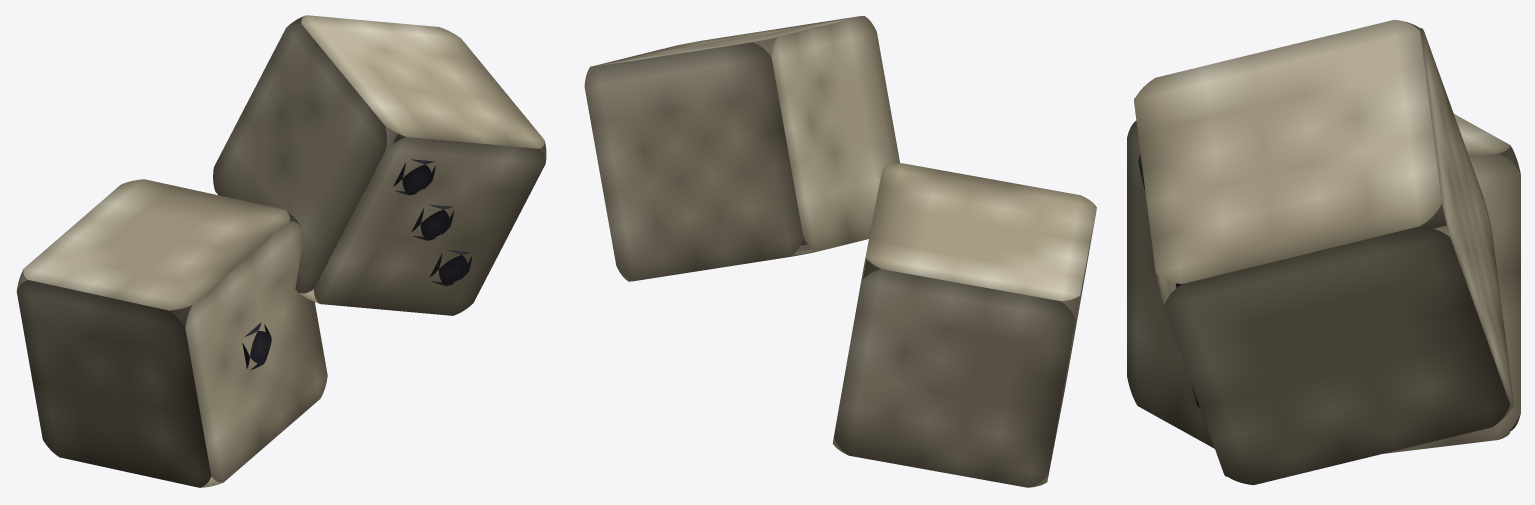
The model's file is loaded_dice.obj.
The picture shows the model from 3 angles, left to right: view 1: azimuth 30°, elevation 25°; view 2: azimuth 150°, elevation 25°; view 3: azimuth 270°, elevation 25°; orthographic projection. The views are drawn at different scales.
Visible parts, largest first — view 1: lit; view 2: lit; view 3: lit.
Part boxes in pixels (x1,y1,x2,y2): lit: (16, 15, 546, 487); lit: (584, 16, 1096, 487); lit: (1127, 19, 1520, 485).
Size of the model in its own units: 0.5077 by 0.3962 by 0.2658.
